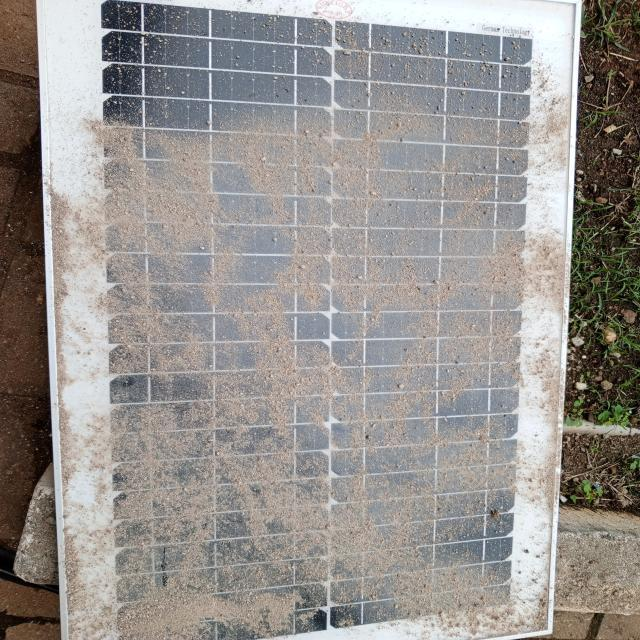Surface Contaminant: (98, 17, 540, 623)
